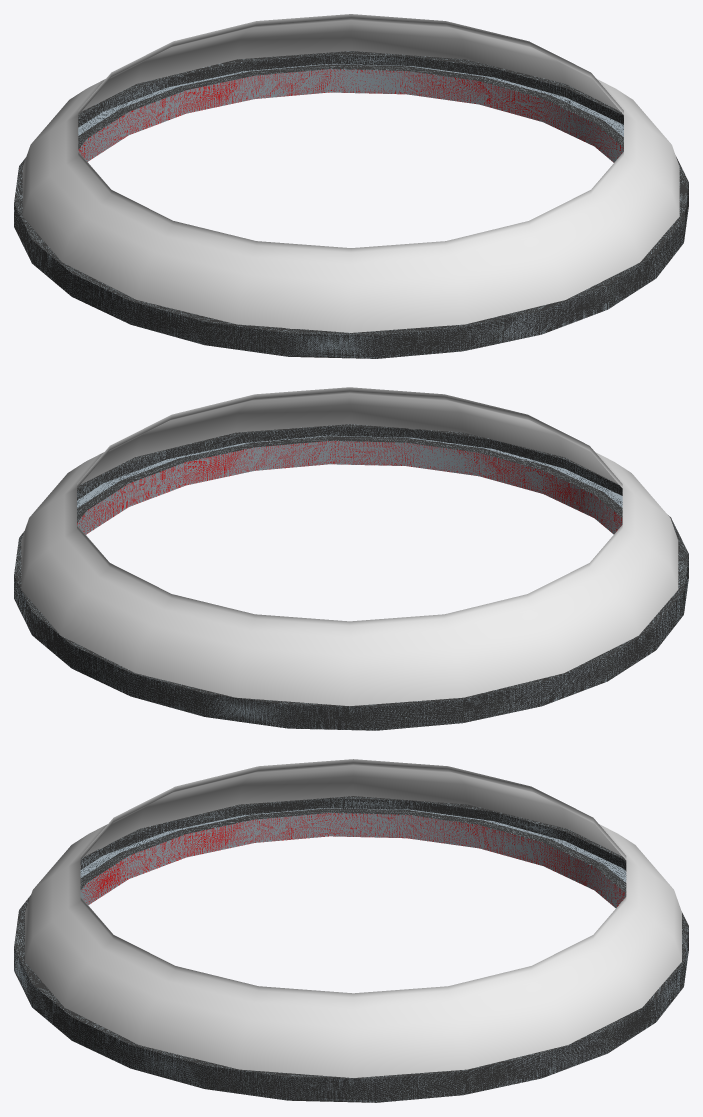
File: OptionsWall.FBX
The picture shows the model from 3 angles, top to bottom: view 1: azimuth 30°, elevation 25°; view 2: azimuth 150°, elevation 25°; view 3: azimuth 270°, elevation 25°; orthographic projection.
Parts seen in each view (by area): view 1: OptionsWall, Model; view 2: OptionsWall, Model; view 3: OptionsWall, Model.
Part boxes in pixels (x1,y1,x2,y2): OptionsWall: (22,14,679,332); Model: (14,51,688,358); OptionsWall: (21,387,678,706); Model: (14,424,688,730); OptionsWall: (25,759,681,1077); Model: (14,796,688,1102).
Bounding box in the file's own units: 2656 × 366 × 2656.
